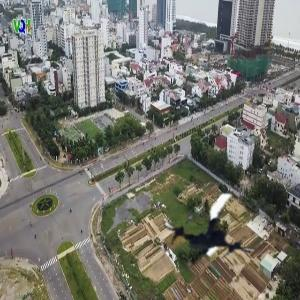drone: (167, 178, 269, 280)
